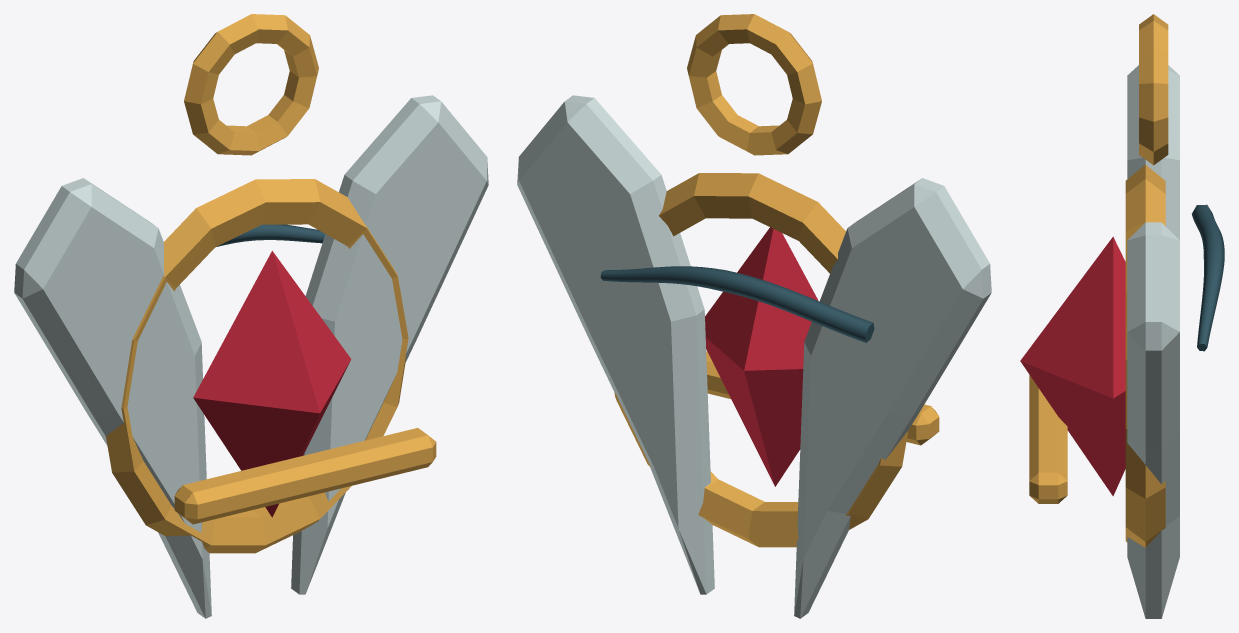
File: safety_bit.obj
The picture shows the model from 3 angles, left to right: view 1: azimuth 30°, elevation 25°; view 2: azimuth 150°, elevation 25°; view 3: azimuth 270°, elevation 25°; orthographic projection. The views are drawn at different scales.
Parts seen in each view (by area): view 1: A_RightGuardWing.001_safety_bit_silver_guard, B_LockRing.001_safety_bit_lock, C_ProtectedGarnet.001_safety_bit_garnet, D_LockingBar.001_safety_bit_lock, E_HangingLoop.001_safety_bit_lock, F_BroochPin.001_safety_bit_enamel; view 2: A_RightGuardWing.001_safety_bit_silver_guard, B_LockRing.001_safety_bit_lock, C_ProtectedGarnet.001_safety_bit_garnet, E_HangingLoop.001_safety_bit_lock, F_BroochPin.001_safety_bit_enamel, D_LockingBar.001_safety_bit_lock; view 3: A_RightGuardWing.001_safety_bit_silver_guard, C_ProtectedGarnet.001_safety_bit_garnet, B_LockRing.001_safety_bit_lock, E_HangingLoop.001_safety_bit_lock, D_LockingBar.001_safety_bit_lock, F_BroochPin.001_safety_bit_enamel.
Part boxes in pixels (x1,y1,x2,y2): A_RightGuardWing.001_safety_bit_silver_guard: [14, 95, 488, 618]; B_LockRing.001_safety_bit_lock: [106, 179, 408, 553]; C_ProtectedGarnet.001_safety_bit_garnet: [193, 250, 351, 517]; D_LockingBar.001_safety_bit_lock: [174, 428, 436, 524]; E_HangingLoop.001_safety_bit_lock: [184, 14, 318, 155]; F_BroochPin.001_safety_bit_enamel: [215, 224, 325, 247]; A_RightGuardWing.001_safety_bit_silver_guard: [517, 95, 991, 618]; B_LockRing.001_safety_bit_lock: [614, 173, 908, 547]; C_ProtectedGarnet.001_safety_bit_garnet: [705, 227, 818, 486]; E_HangingLoop.001_safety_bit_lock: [687, 14, 821, 155]; F_BroochPin.001_safety_bit_enamel: [600, 266, 874, 342]; D_LockingBar.001_safety_bit_lock: [706, 351, 939, 445]; A_RightGuardWing.001_safety_bit_silver_guard: [1127, 65, 1179, 618]; C_ProtectedGarnet.001_safety_bit_garnet: [1020, 236, 1125, 496]; B_LockRing.001_safety_bit_lock: [1125, 164, 1165, 547]; E_HangingLoop.001_safety_bit_lock: [1139, 14, 1168, 165]; D_LockingBar.001_safety_bit_lock: [1029, 375, 1067, 503]; F_BroochPin.001_safety_bit_enamel: [1192, 204, 1224, 351].
Size of the model in its own units: 1.3 by 1.57 by 0.506.
